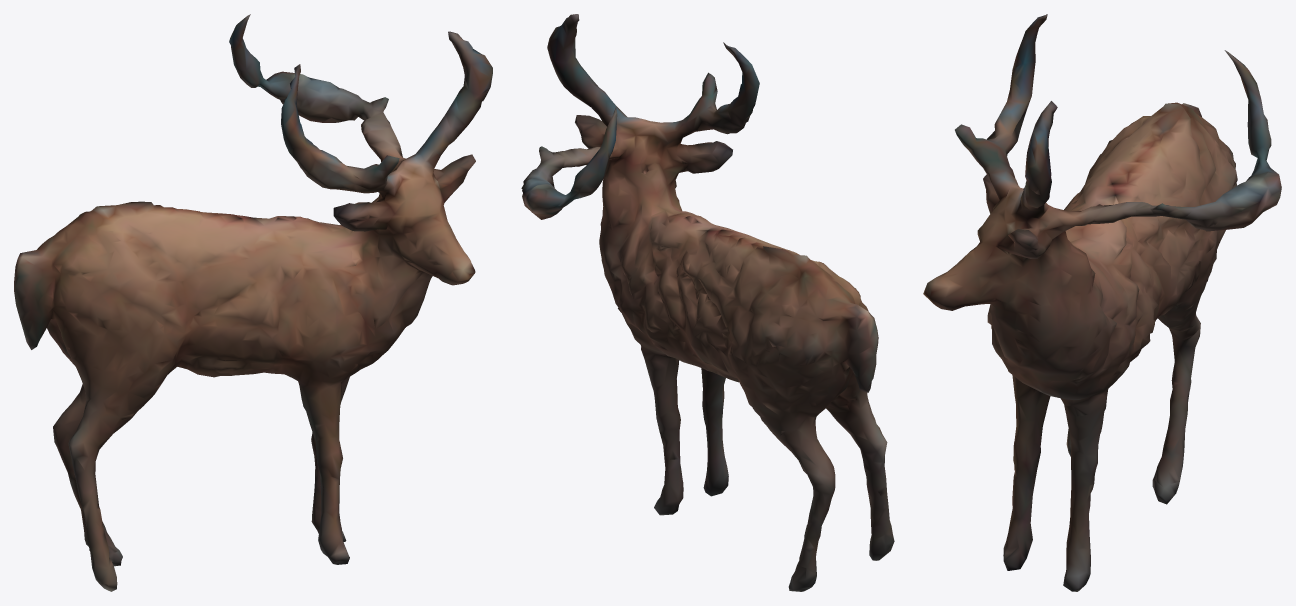
The model's file is deer.glb.
3 renders of one model, left to right at view 1: azimuth 30°, elevation 25°; view 2: azimuth 150°, elevation 25°; view 3: azimuth 270°, elevation 25°, orthographic. The views are drawn at different scales.
Visible parts, largest first — view 1: geometry_0; view 2: geometry_0; view 3: geometry_0.
Boxes of the visible parts, box(x1,y1,x2,y2) form: geometry_0: box(14, 14, 492, 591); geometry_0: box(521, 14, 894, 591); geometry_0: box(923, 14, 1281, 591).
Size of the model in its own units: 0.8447 by 0.9986 by 0.5823.
